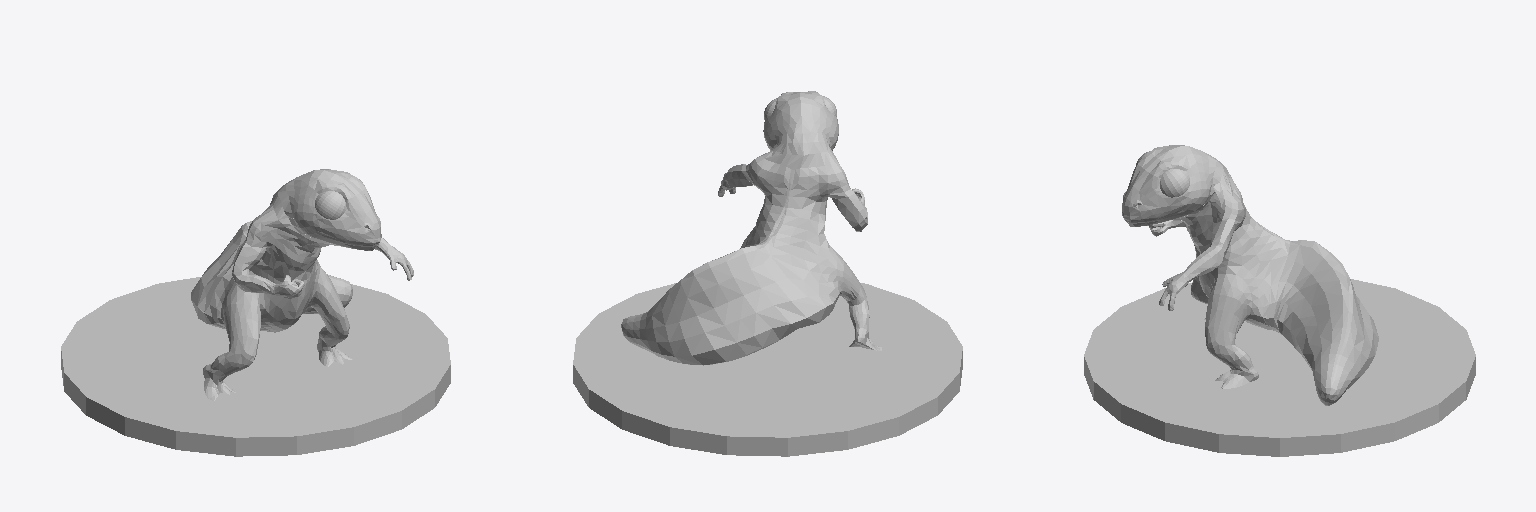
The model's file is JosephStevenson_LeopardHunter.obj.
The picture shows the model from 3 angles: view 1: azimuth 30°, elevation 25°; view 2: azimuth 150°, elevation 25°; view 3: azimuth 270°, elevation 25°; orthographic projection.
Parts seen in each view (by area): view 1: Platform, GEO_Body_Low, GEO_Eye; view 2: Platform, GEO_Body_Low; view 3: Platform, GEO_Body_Low, GEO_Eye.
Boxes of the visible parts, box(x1,y1,x2,y2) form: Platform: box(61, 277, 450, 456); GEO_Body_Low: box(191, 169, 413, 400); GEO_Eye: box(315, 179, 362, 219); Platform: box(573, 283, 962, 456); GEO_Body_Low: box(621, 91, 881, 365); Platform: box(1084, 279, 1475, 456); GEO_Body_Low: box(1122, 145, 1378, 405); GEO_Eye: box(1136, 151, 1189, 197).
Bounding box in the file's own units: 93.95 × 62.51 × 93.95.